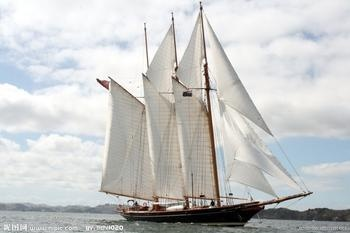fanchuan: (96, 2, 314, 223)
